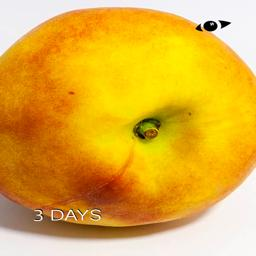Peach Fresh: (1, 3, 256, 233)
